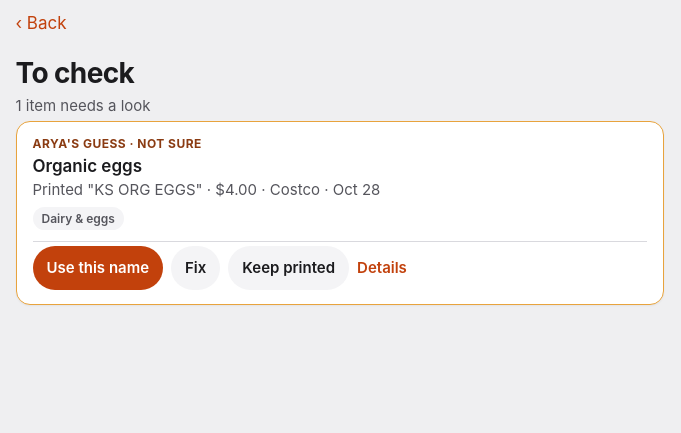
Scenario: Fix opens with the guess and its section filled in
The width and height of the screenshot is (681, 433).
Expected: the text with class "tc-kick" reads "Arya's guess · not sure", [32,136,202,151]
Step 1. Click the button "Fix" → (196, 268), box [171,246,220,290]
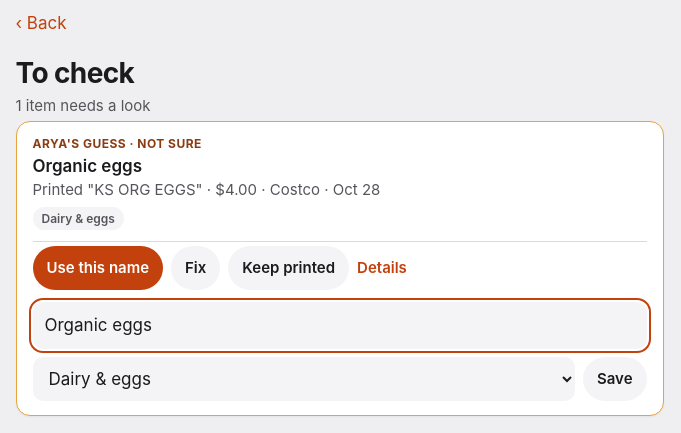
Expected: the field named "Correct name" holds "Organic eggs", [32,302,646,349]
Expected: the dropdown named "Section" shows "Dairy & eggs", [32,357,575,401]
